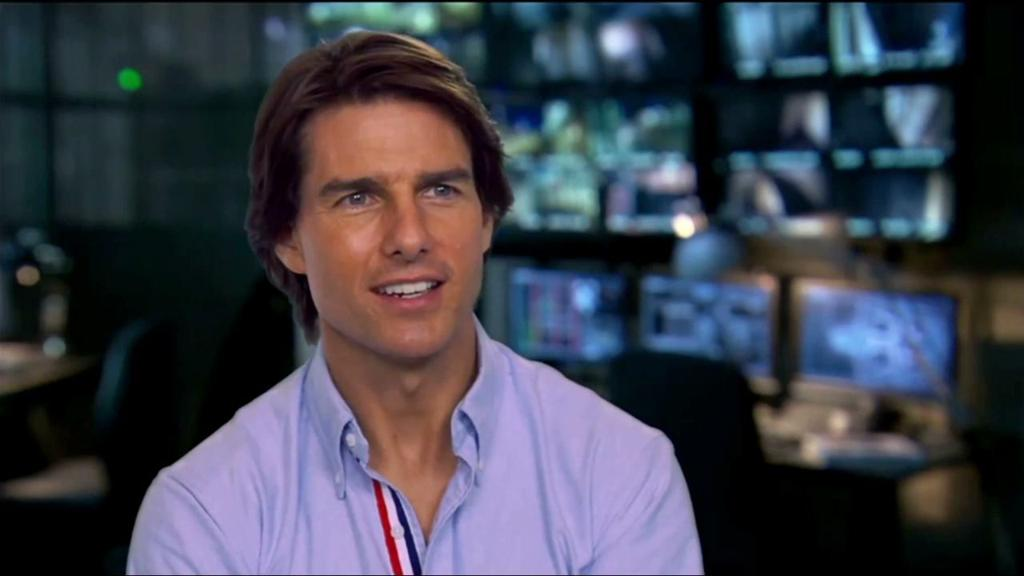face: (306, 104, 486, 358)
